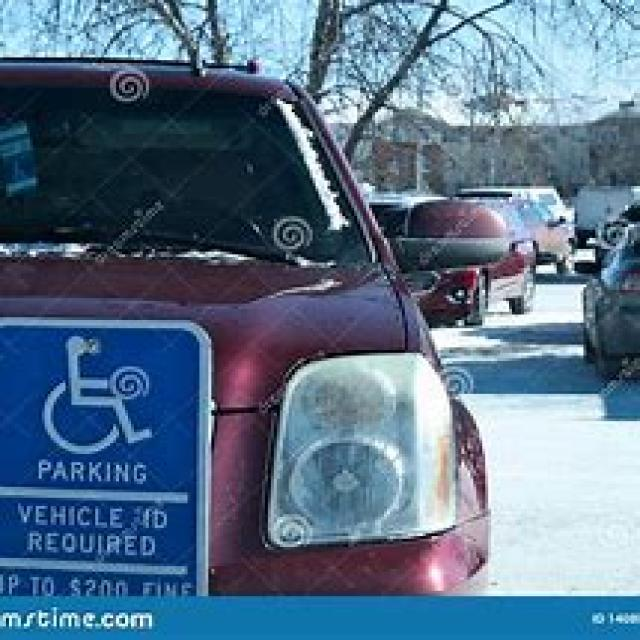car-handicap-placard: (38, 336, 153, 453), (9, 156, 30, 187)
